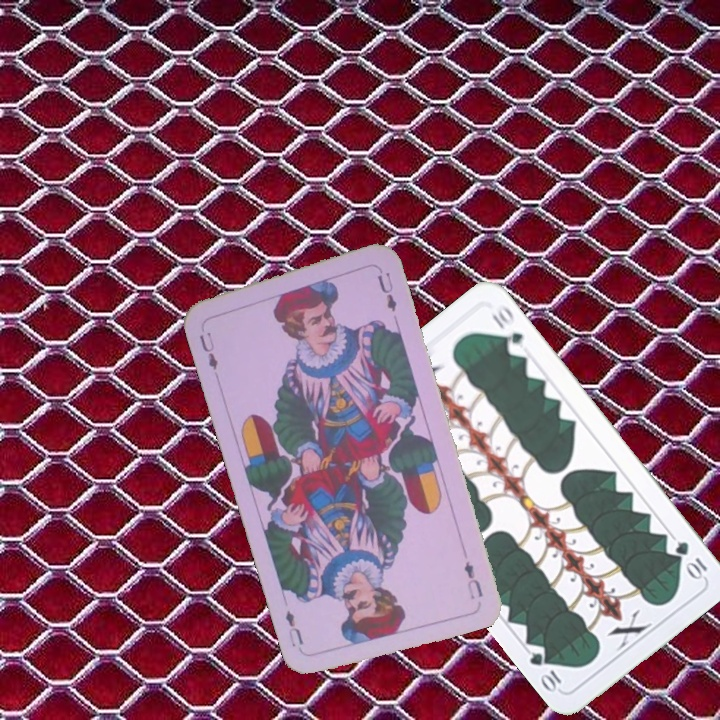EU: (195, 327, 221, 373), (460, 557, 486, 602)
G10: (671, 537, 710, 582)
